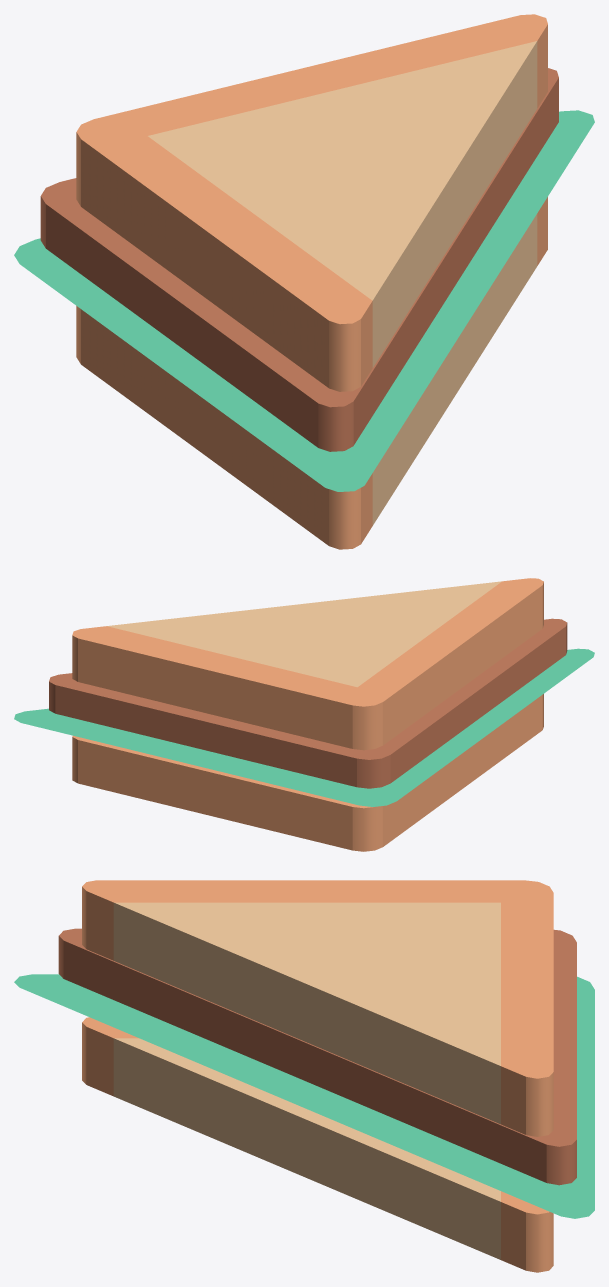
File: sandwich.dae
3 renders of one model, top to bottom at view 1: azimuth 30°, elevation 25°; view 2: azimuth 150°, elevation 25°; view 3: azimuth 270°, elevation 25°, orthographic. The views are drawn at different scales.
Parts seen in each view (by area): view 1: sandwich, meat, lettuce; view 2: sandwich, meat, lettuce; view 3: sandwich, meat, lettuce.
Part boxes in pixels (x1,y1,x2,y2): sandwich: (76,14,547,549); meat: (40,68,558,451); lettuce: (14,110,594,491); sandwich: (72,578,543,851); meat: (49,618,567,788); lettuce: (14,648,594,806); sandwich: (82,880,553,1272); meat: (58,928,576,1185); lettuce: (14,974,594,1218).
Bounding box in the file's own units: 0.4323 × 0.1598 × 0.4339.
